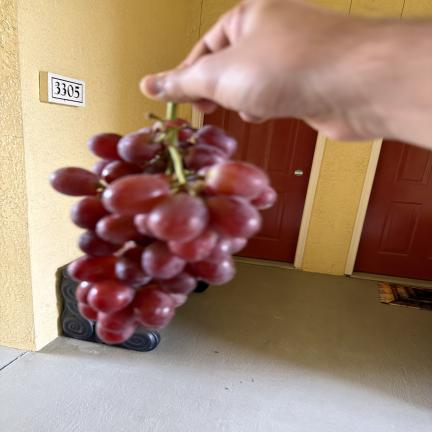grape_cluster: (49, 103, 276, 344)
